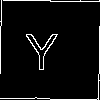Y: (25, 24, 59, 71)
